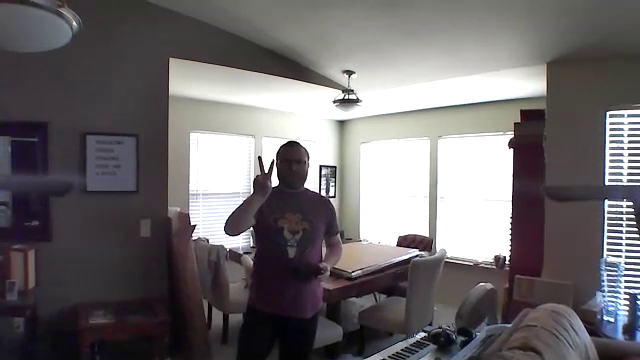peace: (251, 152, 276, 196)
